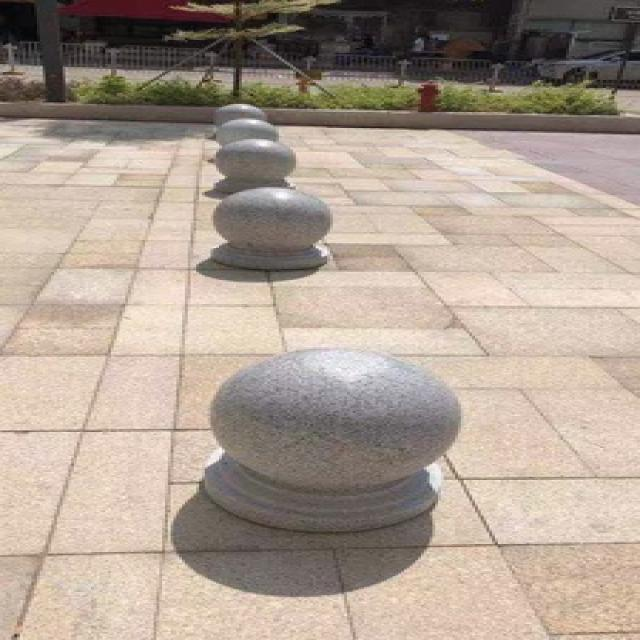fire_hydrant: (407, 77, 441, 110)
spherical_roadblock: (199, 347, 461, 530), (208, 186, 332, 267), (208, 137, 293, 190), (213, 117, 276, 142)
